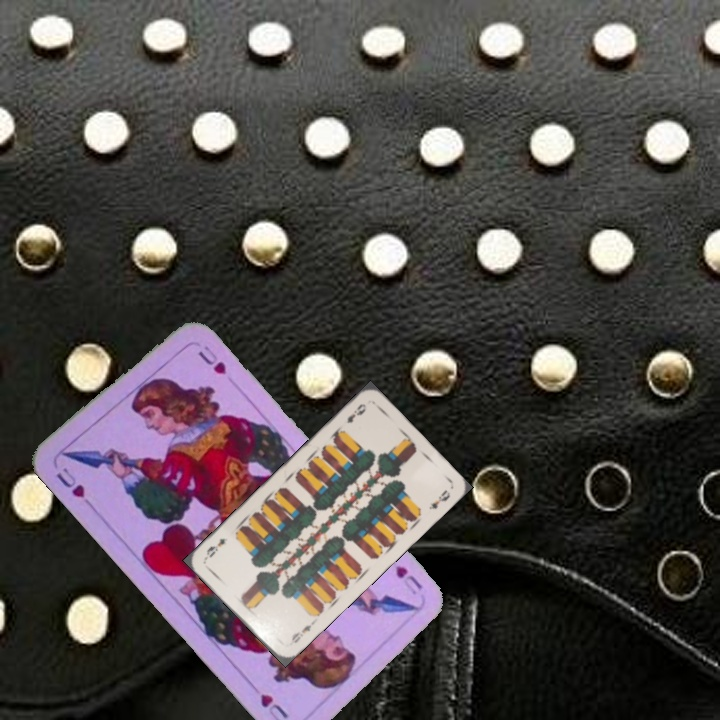E9: (285, 616, 318, 648), (343, 399, 369, 426)
HU: (51, 463, 96, 509), (391, 561, 425, 598)
